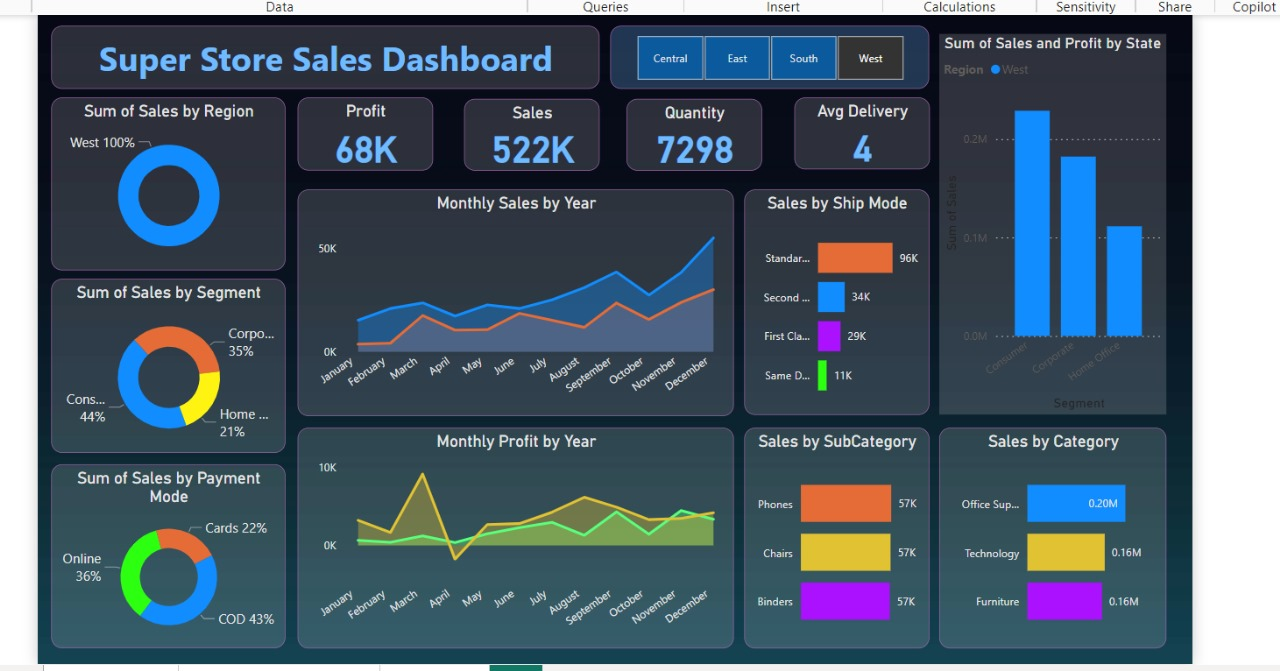

Layout of this report page (visuals, bound fields, positions):
{"tool":"powerbi","page":{"name":"Dashboard","canvas":[1280,720],"ordinal":0},"visuals":[{"type":"clusteredBarChart","title":" Sales by Category","fields":{"Category":["SuperStore_Sales_Dataset.Category"],"Y":["Sum(SuperStore_Sales_Dataset.Sales)"]},"box":[999.8,457.1,252.1,244.8],"z":0},{"type":"clusteredBarChart","title":" Sales by SubCategory","fields":{"Y":["Sum(SuperStore_Sales_Dataset.Sales)"],"Category":["SuperStore_Sales_Dataset.Sub-Category"]},"box":[781.8,457.4,204.2,245.3],"z":1000},{"type":"areaChart","title":"Monthly Sales by Year","fields":{"Y":["Sum(SuperStore_Sales_Dataset.Sales)"],"Category":["SuperStore_Sales_Dataset.Order Date.Variation.Date Hierarchy.Month","SuperStore_Sales_Dataset.Order Date.Variation.Date Hierarchy.Day"],"Series":["SuperStore_Sales_Dataset.Order Date.Variation.Date Hierarchy.Year"]},"box":[288.2,193,483.6,250.9],"z":2000},{"type":"areaChart","title":"Monthly Profit by Year","fields":{"Category":["SuperStore_Sales_Dataset.Order Date.Variation.Date Hierarchy.Month","SuperStore_Sales_Dataset.Order Date.Variation.Date Hierarchy.Day"],"Series":["SuperStore_Sales_Dataset.Order Date.Variation.Date Hierarchy.Year"],"Y":["Sum(SuperStore_Sales_Dataset.Profit)"]},"box":[288.2,457.1,483.6,244.8],"z":3000},{"type":"lineStackedColumnComboChart","title":"Sales and  Profit by State","fields":{"Category":["SuperStore_Sales_Dataset.Segment"],"Y":["Sum(SuperStore_Sales_Dataset.Sales)"],"Series":["SuperStore_Sales_Dataset.Region"]},"box":[999.4,21,252.1,421.7],"z":4000},{"type":"clusteredBarChart","title":" Sales by Ship Mode","fields":{"Y":["Sum(SuperStore_Sales_Dataset.Sales)"],"Category":["SuperStore_Sales_Dataset.Ship Mode"]},"box":[782.7,193,205,249.6],"z":5000},{"type":"pieChart","title":" Sales by Segment","fields":{"Y":["CountNonNull(SuperStore_Sales_Dataset.Segment)"],"Category":["SuperStore_Sales_Dataset.Order Date.Variation.Date Hierarchy.Month"]},"box":[14.5,291.9,259.3,193],"z":6000},{"type":"donutChart","title":" Sales by Payment Mode","fields":{"Category":["SuperStore_Sales_Dataset.Payment Mode"],"Y":["Sum(SuperStore_Sales_Dataset.Sales)"]},"box":[14.5,498.1,259.3,203.8],"z":7000},{"type":"slicer","fields":{"Values":["SuperStore_Sales_Dataset.Region"]},"box":[636.2,12,352.6,70.5],"z":8000},{"type":"textbox","box":[14.5,12.1,607.8,69.9],"z":9000},{"type":"card","title":"Profit","fields":{"Values":["Sum(SuperStore_Sales_Dataset.Profit)"]},"box":[288.2,91.7,150,80.8],"z":10000},{"type":"card","title":"Sales","fields":{"Values":["Sum(SuperStore_Sales_Dataset.Sales)"]},"box":[472.8,92.9,150,79.6],"z":11000},{"type":"card","title":"Quantity","fields":{"Values":["Sum(SuperStore_Sales_Dataset.Quantity)"]},"box":[652.5,92.9,150,79.6],"z":12000},{"type":"card","title":"Avg Delivery","fields":{"Values":["Avg(SuperStore_Sales_Dataset.AvgDelivery)"]},"box":[838.2,91.7,150,79.6],"z":13000},{"type":"donutChart","title":" Sales by Region","fields":{"Category":["SuperStore_Sales_Dataset.Region"],"Y":["Sum(SuperStore_Sales_Dataset.Sales)"]},"box":[14.5,91.7,259.3,191.8],"z":14000}]}

Visuals, with their boxes on the page's 1280x720 design canvas (x1, y1, x2, y2). These are canvas units, not pixel positions in the 1280x671 screenshot, which may show the page scaled, cropped or inside an application window:
" Sales by Category" clusteredBarChart: BBox(1000, 457, 1252, 702)
" Sales by SubCategory" clusteredBarChart: BBox(782, 457, 986, 703)
"Monthly Sales by Year" areaChart: BBox(288, 193, 772, 444)
"Monthly Profit by Year" areaChart: BBox(288, 457, 772, 702)
"Sales and  Profit by State" lineStackedColumnComboChart: BBox(999, 21, 1252, 443)
" Sales by Ship Mode" clusteredBarChart: BBox(783, 193, 988, 443)
" Sales by Segment" pieChart: BBox(14, 292, 274, 485)
" Sales by Payment Mode" donutChart: BBox(14, 498, 274, 702)
slicer - SuperStore_Sales_Dataset.Region: BBox(636, 12, 989, 82)
textbox: BBox(14, 12, 622, 82)
"Profit" card: BBox(288, 92, 438, 172)
"Sales" card: BBox(473, 93, 623, 172)
"Quantity" card: BBox(652, 93, 802, 172)
"Avg Delivery" card: BBox(838, 92, 988, 171)
" Sales by Region" donutChart: BBox(14, 92, 274, 284)
